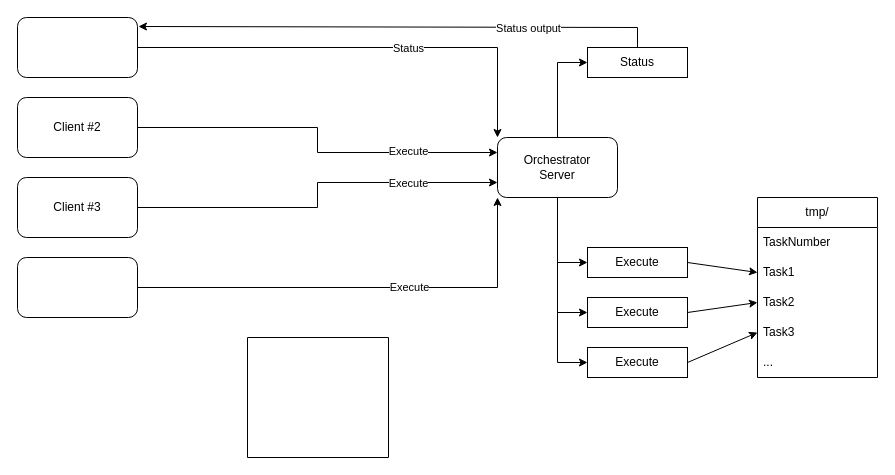
Some shapes in this 895 by 475 pixel diagram are drawn without their labels. The centre of each missing label's shape, as x and y in pixels:
"Client #1" goes at (77,47).
"Client #4" goes at (77,287).
"struct request { int type; int task; int est_time; char * command; }" goes at (317,397).
